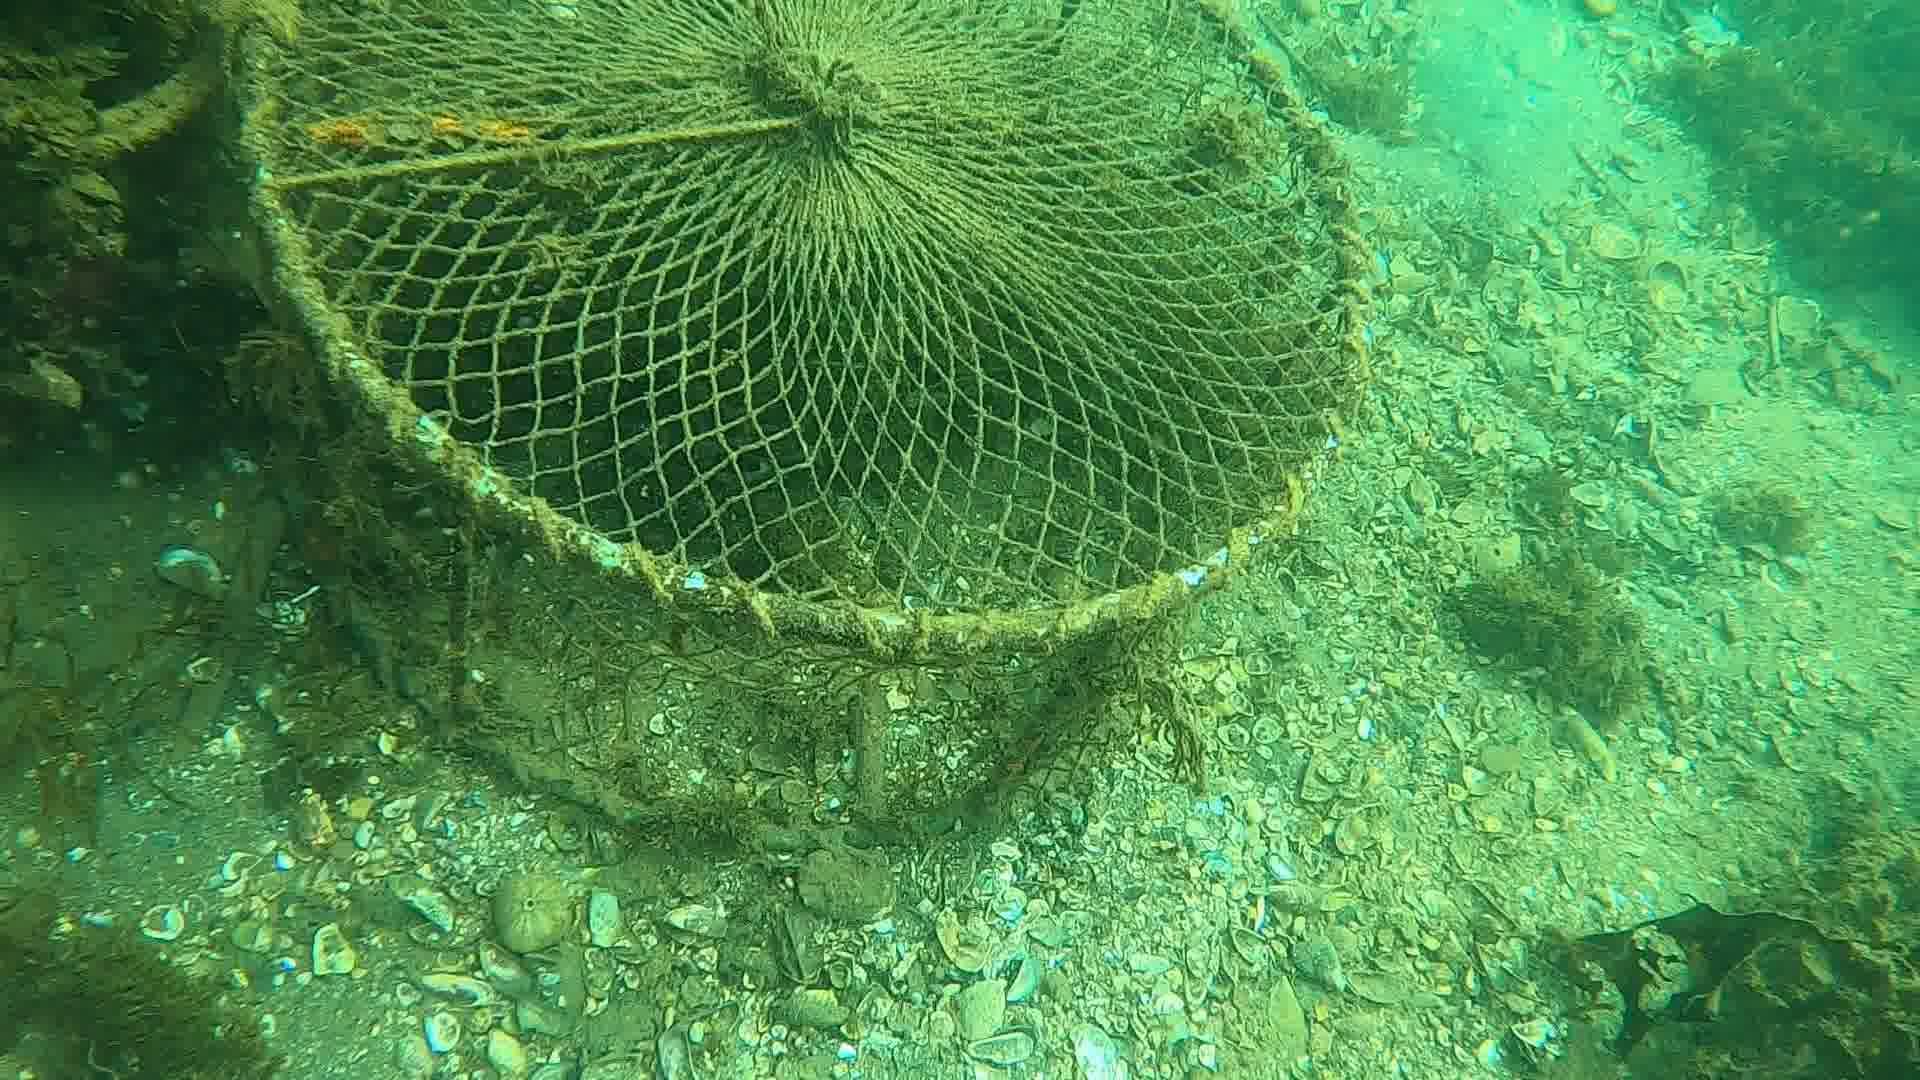circular fish trap: (231, 0, 1374, 853)
